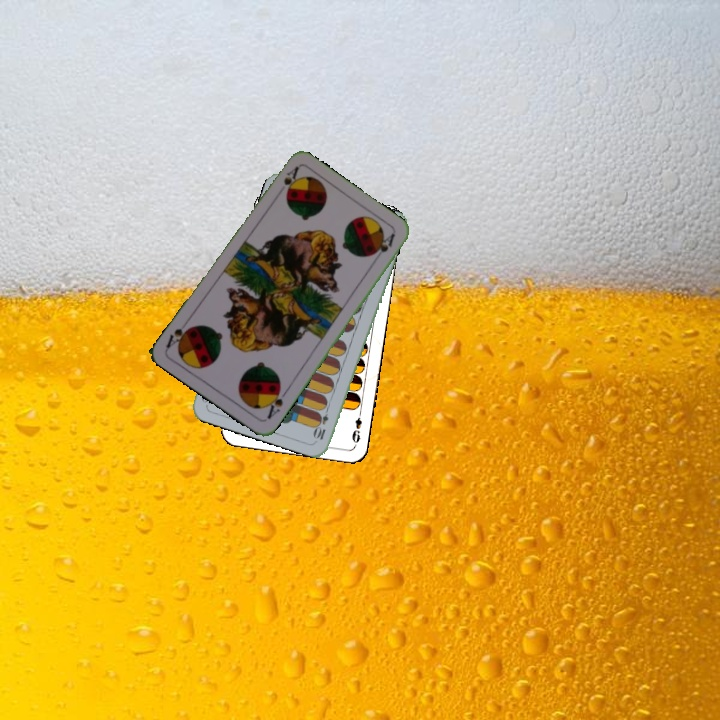E10: (311, 402, 332, 442)
E9: (348, 407, 364, 447)
SA: (262, 383, 290, 422), (280, 162, 302, 195)
